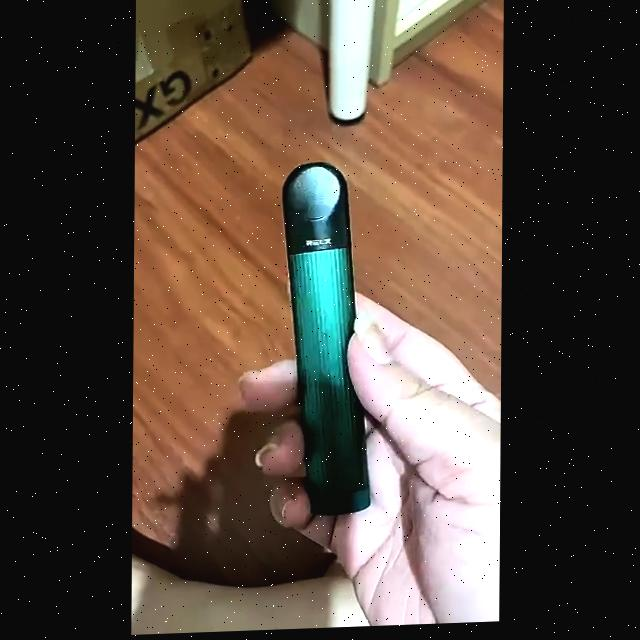vape: (281, 163, 374, 522)
